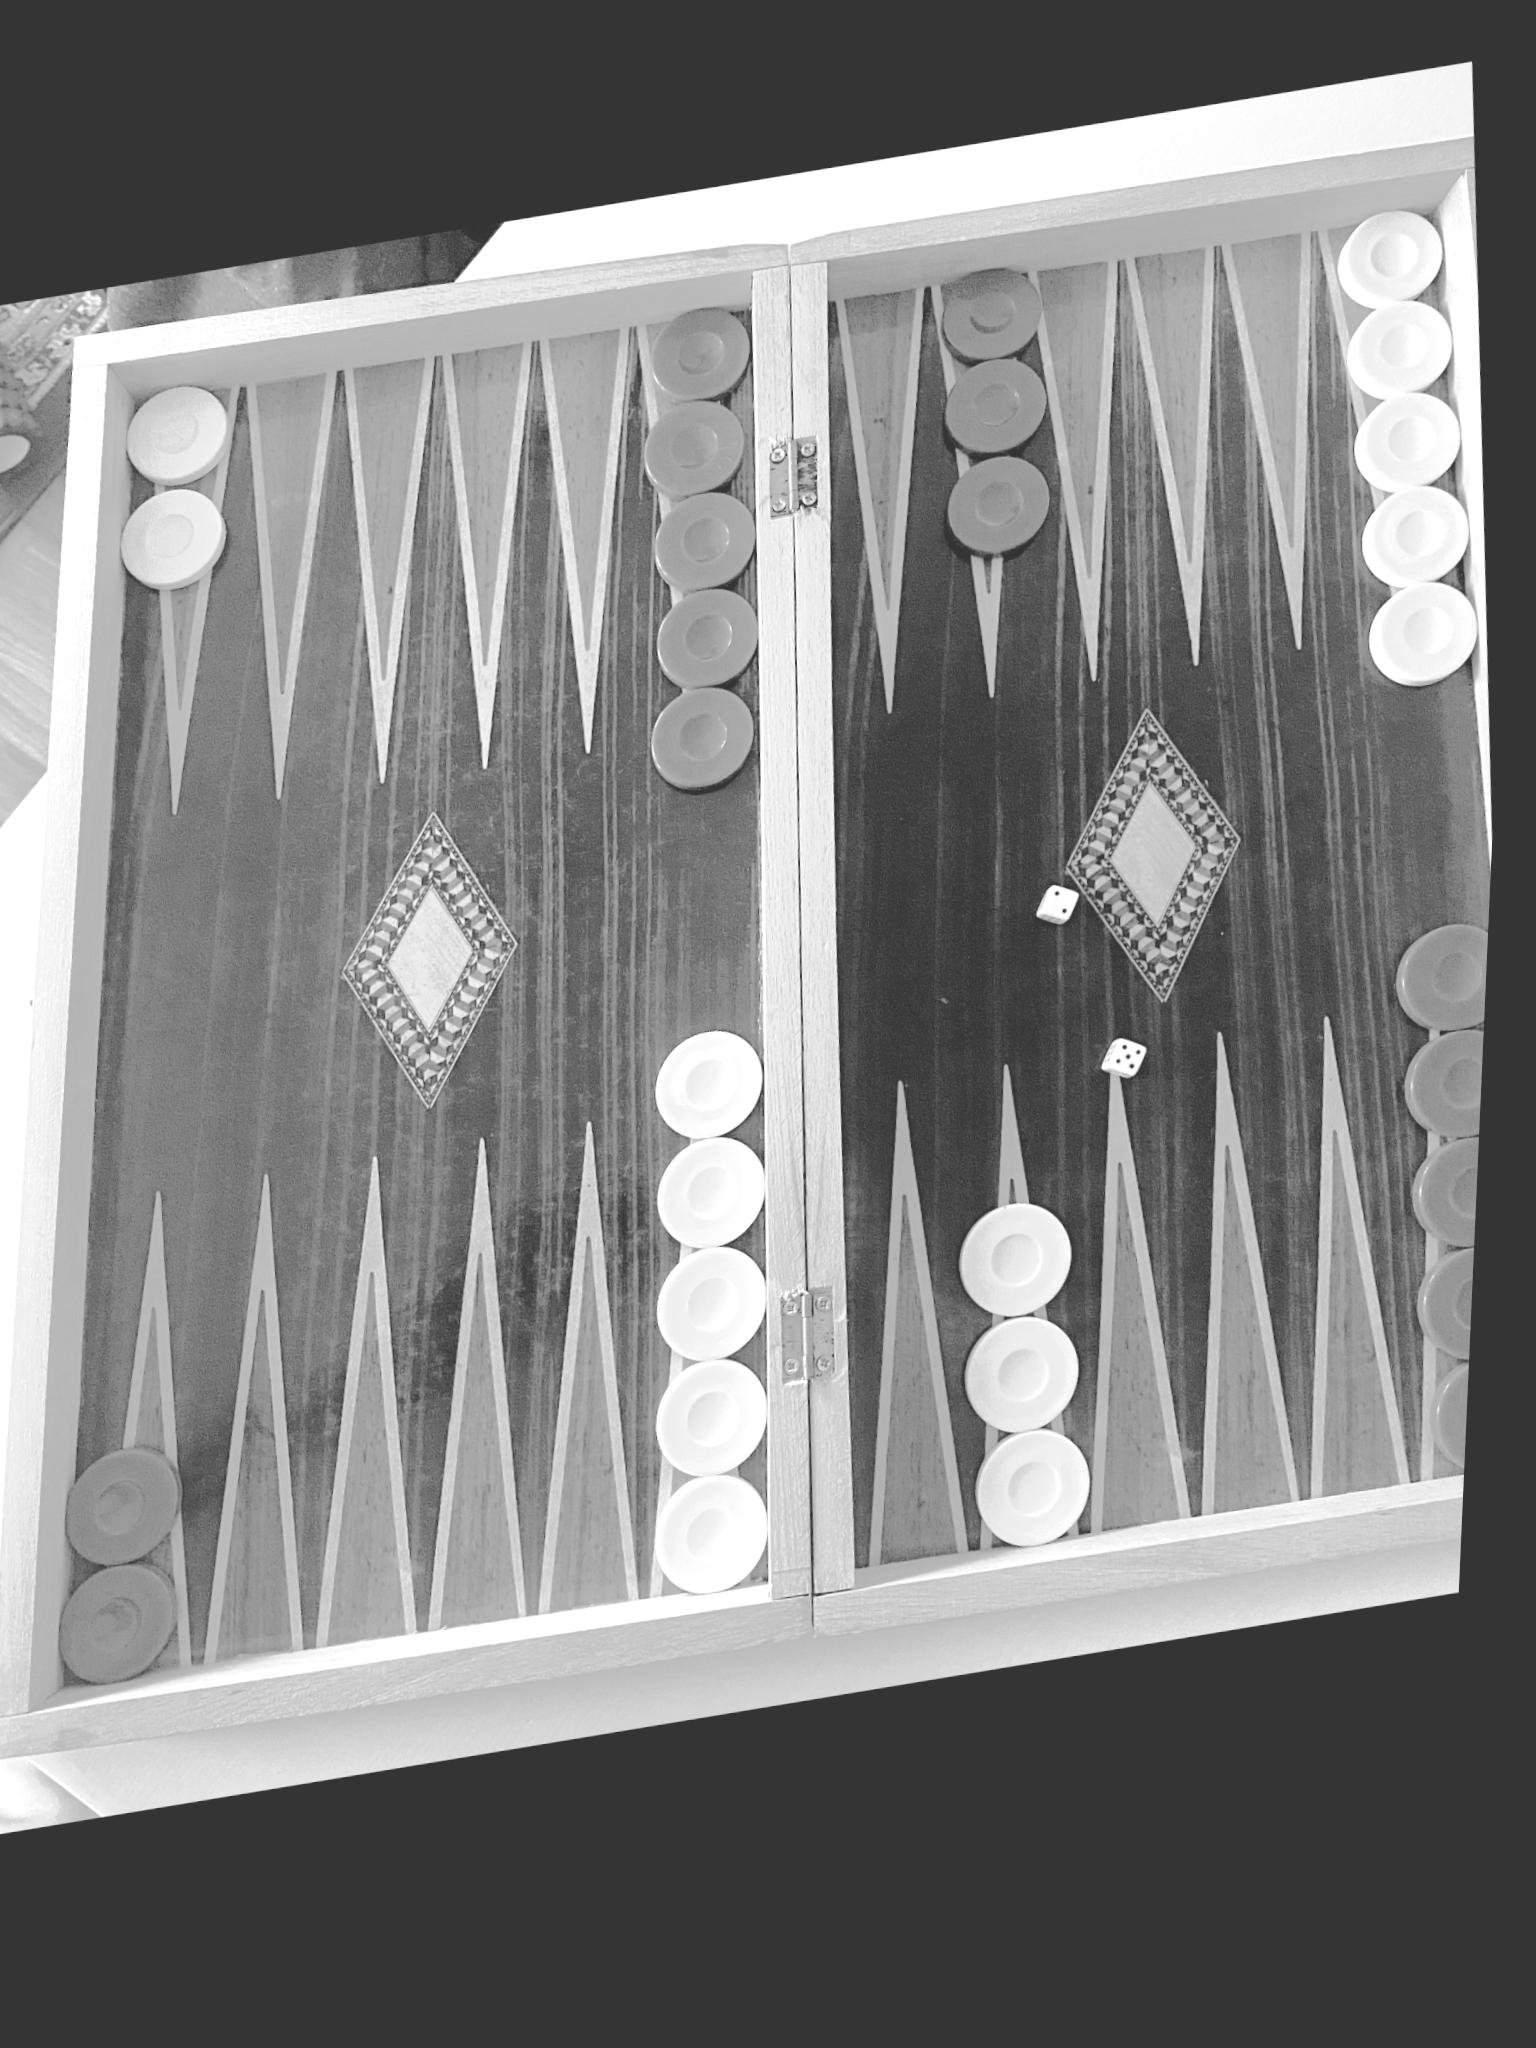bar: (702, 295, 920, 1598)
board: (0, 148, 1526, 1759)
dark_p: (66, 1559, 200, 1692), (934, 466, 1070, 590), (73, 1445, 198, 1576), (652, 693, 768, 818), (944, 368, 1060, 484), (1400, 935, 1499, 1071), (645, 310, 760, 424), (653, 503, 766, 613), (658, 600, 771, 708), (1400, 1051, 1496, 1179), (942, 277, 1052, 385), (644, 408, 753, 514), (1415, 1158, 1491, 1287), (1417, 1272, 1488, 1403), (1421, 1387, 1483, 1516)
dice: (1029, 893, 1099, 961), (1100, 1050, 1160, 1113)
light_p: (650, 1363, 787, 1506), (649, 1248, 787, 1387), (658, 1480, 792, 1613), (655, 1138, 787, 1271), (970, 1327, 1096, 1461), (655, 1034, 781, 1166), (1368, 603, 1499, 729), (968, 1213, 1091, 1345), (115, 373, 239, 493), (118, 482, 237, 606), (1360, 505, 1489, 619), (984, 1448, 1107, 1567), (1354, 410, 1468, 531), (1338, 226, 1454, 340), (1349, 319, 1460, 431)
